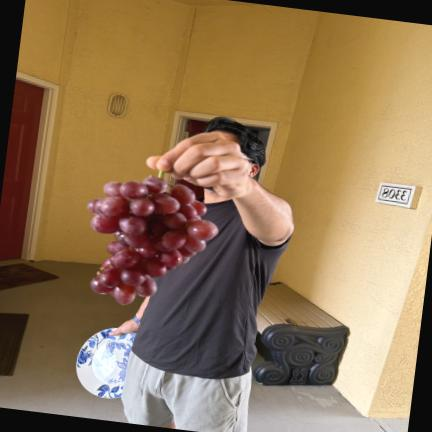grape_cluster: (87, 169, 218, 305)
